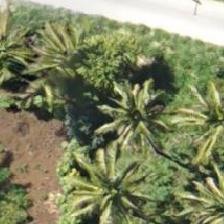coconut_tree: (90, 68, 180, 158), (22, 1, 112, 91), (68, 144, 158, 223), (175, 68, 223, 158)
